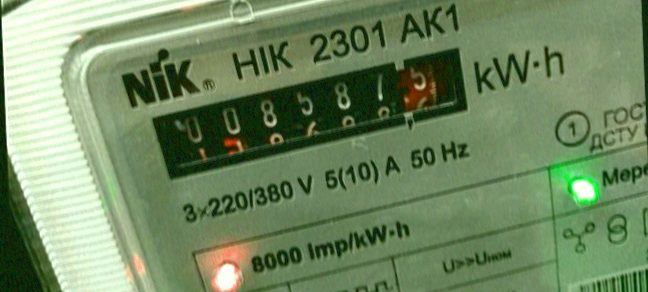0: (218, 102, 245, 137), (180, 111, 208, 144)
5: (293, 86, 318, 118), (406, 59, 430, 91)
6: (413, 94, 432, 112)
7: (368, 70, 391, 105)
8: (330, 78, 355, 112), (257, 96, 282, 129)
screen: (141, 46, 493, 182)
